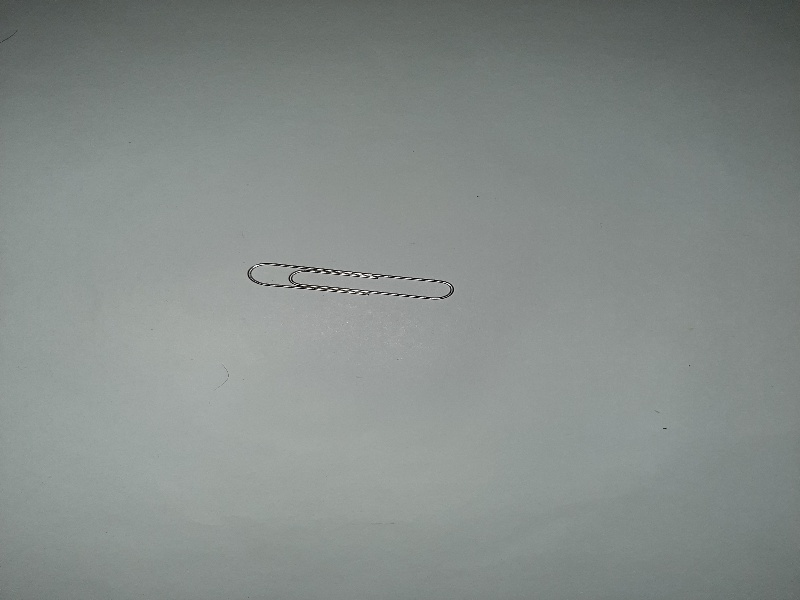Big Jumpclip: (247, 254, 462, 309)
